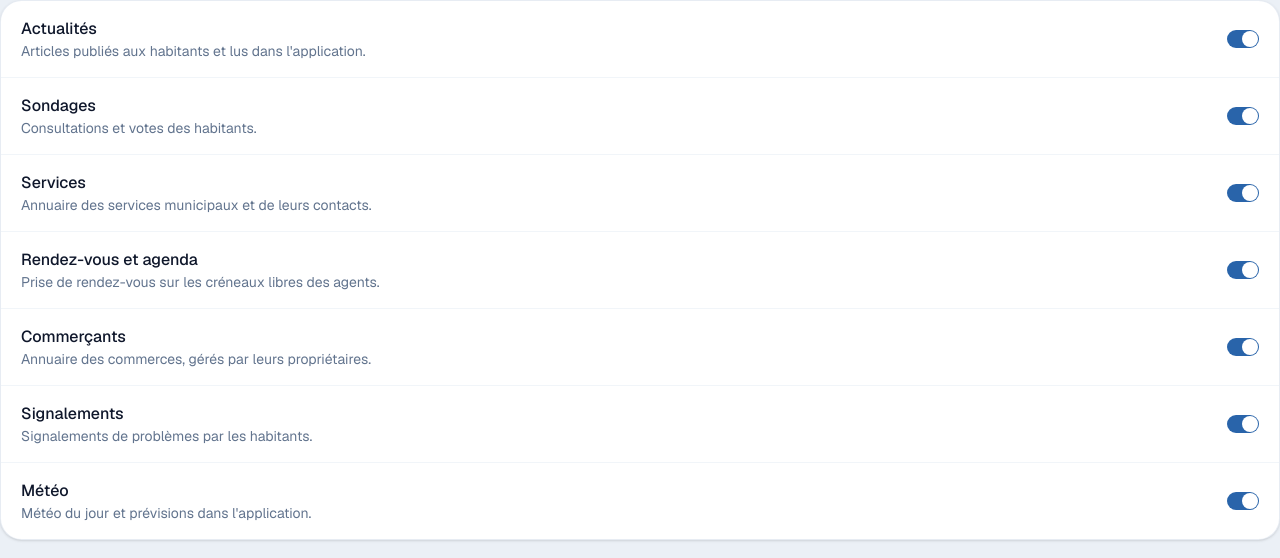
Test: ModulesForm › switches appointments off together with services, and says why they cannot come back alone
This screenshot has width=1280, height=558.
What coordinates should you click on to do the following:
click the switch named "Services"
I would click on:
 (1243, 193)
Its box is [1227, 184, 1259, 202].
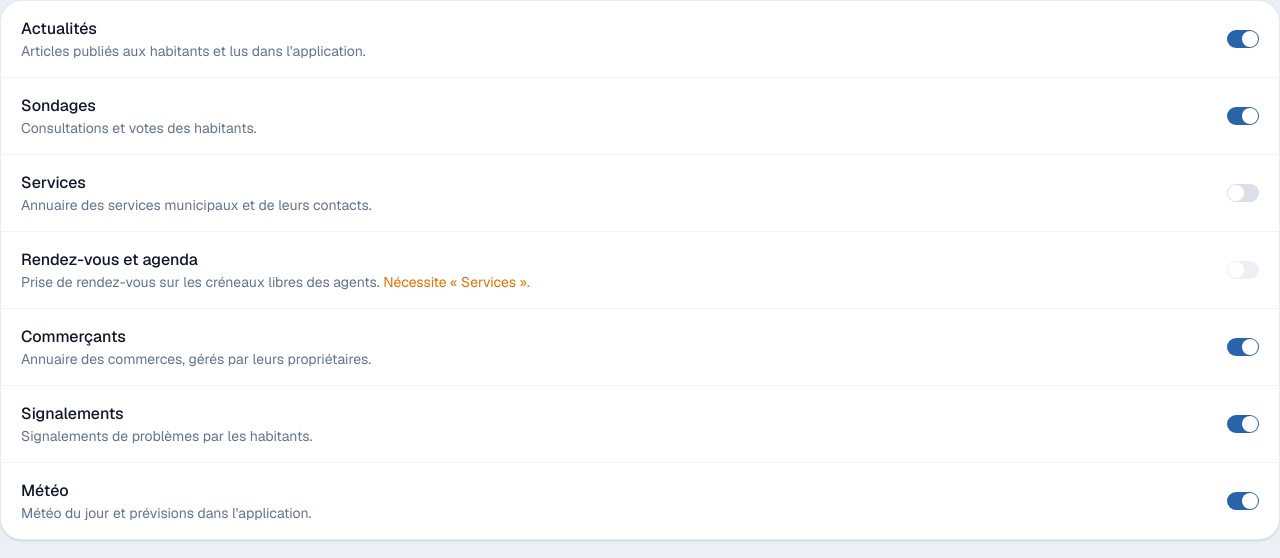
Expected: the text "Nécessite « Services »." is shown, [383, 273, 530, 291]
